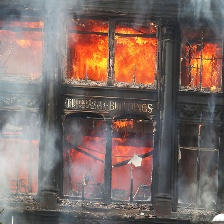fire: (63, 114, 162, 174), (75, 19, 160, 86), (6, 25, 44, 81), (183, 40, 221, 85)
smoke: (3, 111, 47, 208)
